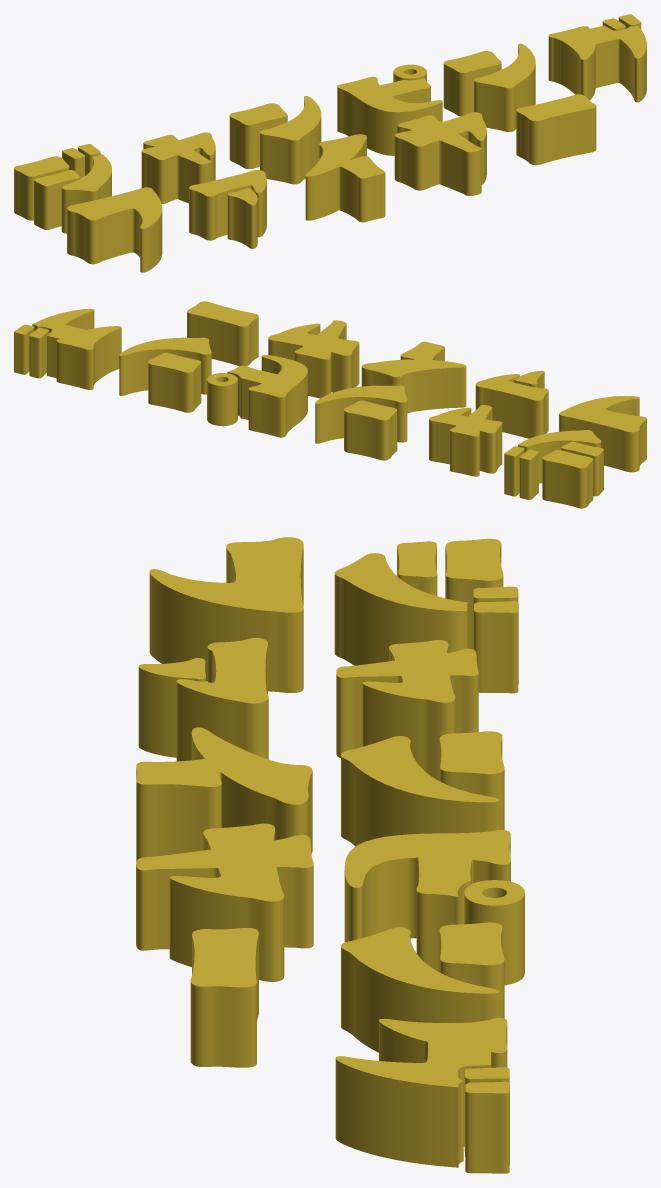
The model's file is Title.fbx.
3 views of the same model, one above another, from view 1: azimuth 30°, elevation 25°; view 2: azimuth 150°, elevation 25°; view 3: azimuth 270°, elevation 25° (orthographic). The views are drawn at different scales.
Visible parts, largest first — view 1: Text, Text.001; view 2: Text, Text.001; view 3: Text, Text.001.
Part boxes in pixels (x1,y1,x2,y2): Text: [14, 14, 646, 233]; Text.001: [67, 94, 596, 272]; Text: [14, 308, 603, 508]; Text.001: [187, 301, 646, 472]; Text: [334, 538, 524, 1173]; Text.001: [136, 537, 313, 1067].
Bounding box in the file's own units: 594 × 40 × 175.
